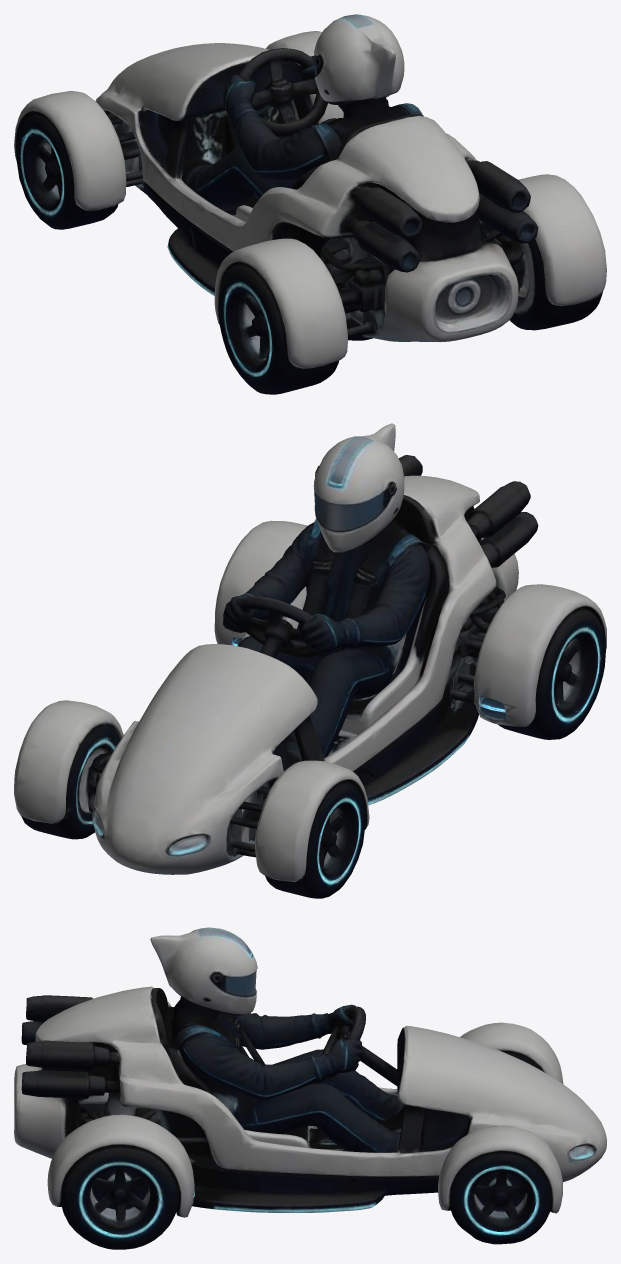
The model's file is civic-final.glb.
3 views of the same model, one above another, from view 1: azimuth 30°, elevation 25°; view 2: azimuth 150°, elevation 25°; view 3: azimuth 270°, elevation 25° (orthographic). The views are drawn at different scales.
Parts seen in each view (by area): view 1: chassis, wheel-rl, wheel-fl, wheel-rr, wheel-fr; view 2: chassis, wheel-rl, wheel-fl, wheel-fr, wheel-rr; view 3: chassis, wheel-rr, wheel-fr, wheel-fl.
Boxes of the visible parts, x1,y1,x2,y2 form: chassis: (92, 14, 596, 368); wheel-rl: (214, 238, 347, 394); wheel-fl: (14, 91, 126, 229); wheel-rr: (491, 174, 606, 330); wheel-fr: (266, 31, 343, 124); chassis: (16, 423, 538, 881); wheel-rl: (452, 584, 606, 739); wheel-fl: (255, 760, 369, 898); wheel-fr: (14, 700, 123, 839); wheel-rr: (214, 520, 307, 636); chassis: (14, 927, 606, 1217); wheel-rr: (48, 1114, 191, 1249); wheel-fr: (438, 1125, 562, 1244); wheel-fl: (460, 1022, 563, 1083).
Size of the model in its own units: 2.48 by 2.12 by 4.5.
1 material, 1 textured.
